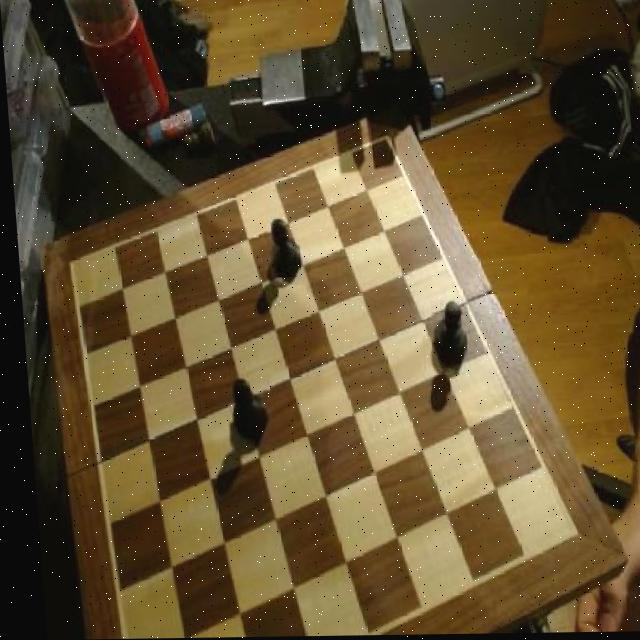black-knight: (221, 376, 266, 445), (424, 301, 466, 374), (263, 215, 301, 283)
